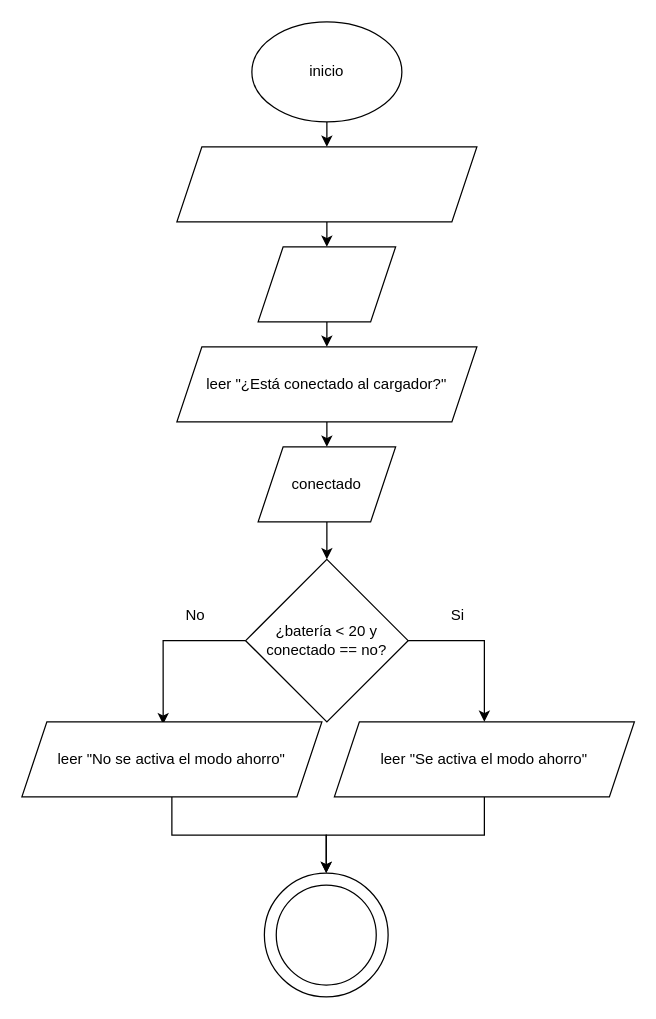
This 656x1019 diagram has some shape labels left out. The shapes that lost their labels are listed below. From the top down, each one's centre as x and y in pixels, then its label:
(326,184): leer "¿Cuanta batería tiene?"
(326,284): bateria
(325,934): Fin
